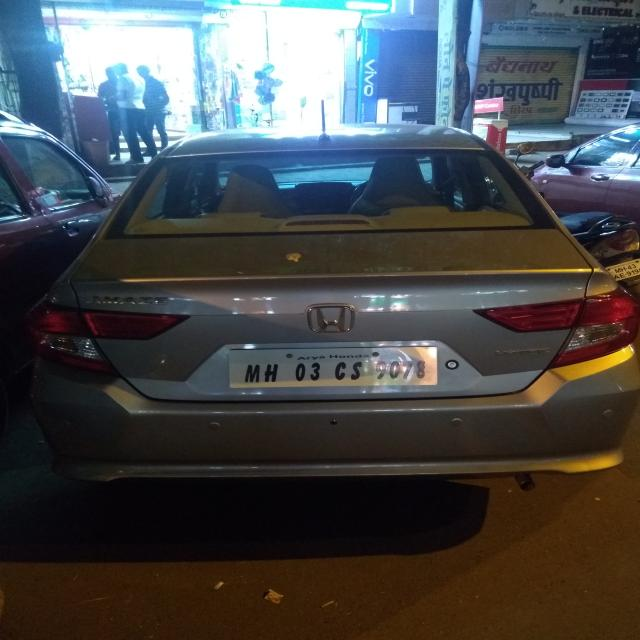Number-Plate: (224, 350, 435, 390)
